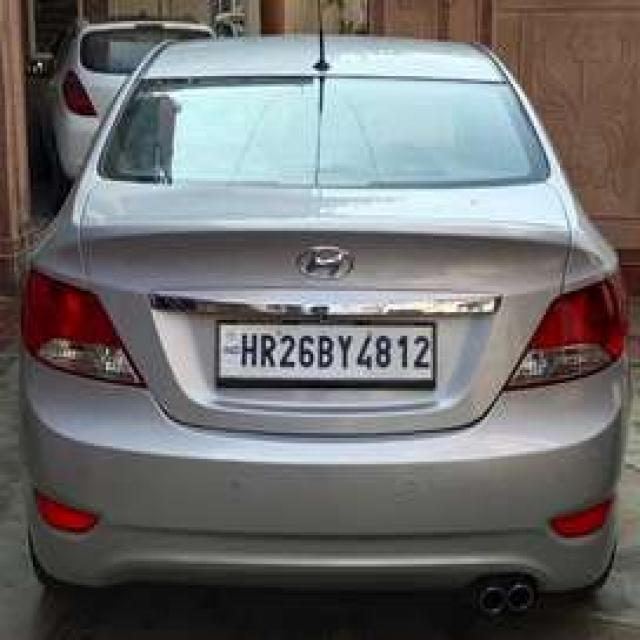Plate: (218, 321, 432, 376)
